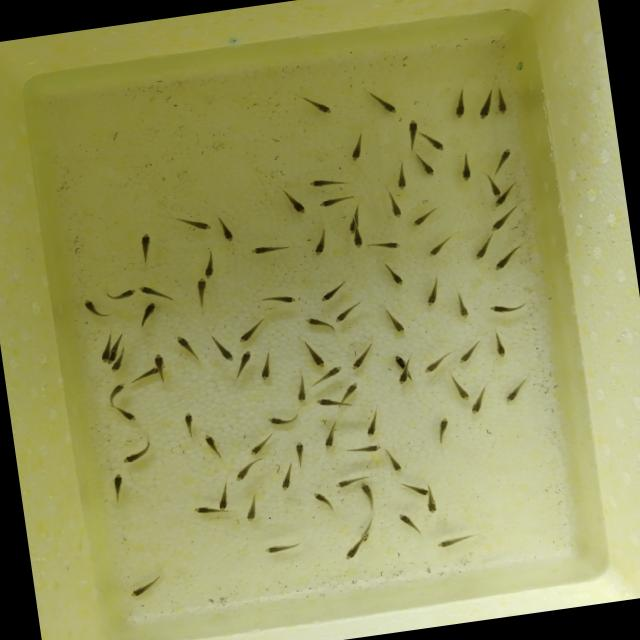fingerling: (127, 226, 163, 269), (170, 208, 216, 240), (243, 236, 297, 262), (297, 89, 339, 122), (275, 185, 312, 221), (434, 528, 481, 555), (417, 270, 447, 312), (170, 328, 202, 367), (258, 536, 308, 560), (206, 330, 236, 370), (235, 313, 272, 345), (490, 243, 528, 274), (366, 89, 402, 120), (466, 229, 497, 265), (305, 172, 353, 195), (124, 572, 163, 600), (330, 299, 371, 325), (408, 202, 446, 230), (344, 342, 378, 373), (484, 298, 534, 319), (360, 404, 388, 441), (256, 290, 299, 314), (306, 226, 336, 260), (316, 278, 350, 308), (424, 232, 458, 262), (446, 85, 472, 124), (300, 336, 328, 372), (118, 440, 154, 468), (344, 129, 372, 165), (499, 376, 532, 406), (188, 277, 212, 318), (392, 508, 424, 538), (456, 336, 488, 366), (231, 458, 264, 487), (378, 260, 408, 291), (80, 296, 112, 325), (316, 190, 358, 212), (488, 208, 522, 235), (274, 462, 300, 496), (214, 212, 240, 246), (366, 236, 406, 258), (471, 86, 496, 121), (264, 409, 302, 432), (309, 365, 347, 388), (420, 350, 456, 374), (254, 350, 278, 386), (411, 150, 438, 182), (383, 306, 408, 340), (311, 488, 339, 518), (101, 381, 131, 409), (136, 280, 171, 304), (455, 150, 477, 188), (382, 191, 408, 223), (318, 421, 343, 454), (396, 476, 430, 500), (244, 431, 274, 458), (358, 479, 381, 514), (234, 347, 259, 379), (202, 432, 227, 464), (432, 415, 455, 449), (136, 301, 162, 331), (451, 288, 473, 323), (492, 146, 516, 178), (213, 478, 234, 514), (240, 492, 262, 526), (450, 370, 472, 404), (200, 247, 222, 281), (400, 116, 422, 150), (420, 126, 445, 155), (182, 408, 202, 444), (104, 284, 138, 305), (108, 472, 130, 504), (392, 160, 412, 195), (292, 372, 310, 410), (127, 366, 160, 386), (114, 404, 140, 429), (492, 84, 510, 120), (346, 441, 384, 456), (384, 448, 404, 476), (340, 378, 364, 401), (187, 502, 217, 520), (303, 314, 333, 332), (329, 476, 361, 492), (492, 330, 509, 360), (422, 494, 443, 518), (292, 440, 310, 468), (342, 541, 366, 561), (346, 207, 362, 236), (486, 173, 502, 200), (314, 395, 340, 410), (150, 352, 168, 370), (349, 234, 366, 252), (391, 354, 408, 371), (394, 370, 409, 388), (490, 198, 508, 211), (469, 401, 484, 416), (107, 363, 124, 375), (100, 348, 112, 364)
